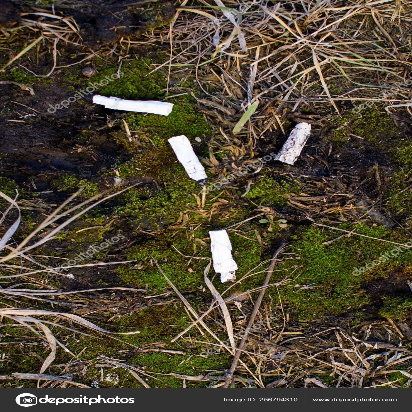cigarette: (204, 224, 248, 286), (165, 130, 214, 185), (86, 92, 179, 118), (276, 120, 313, 164)
